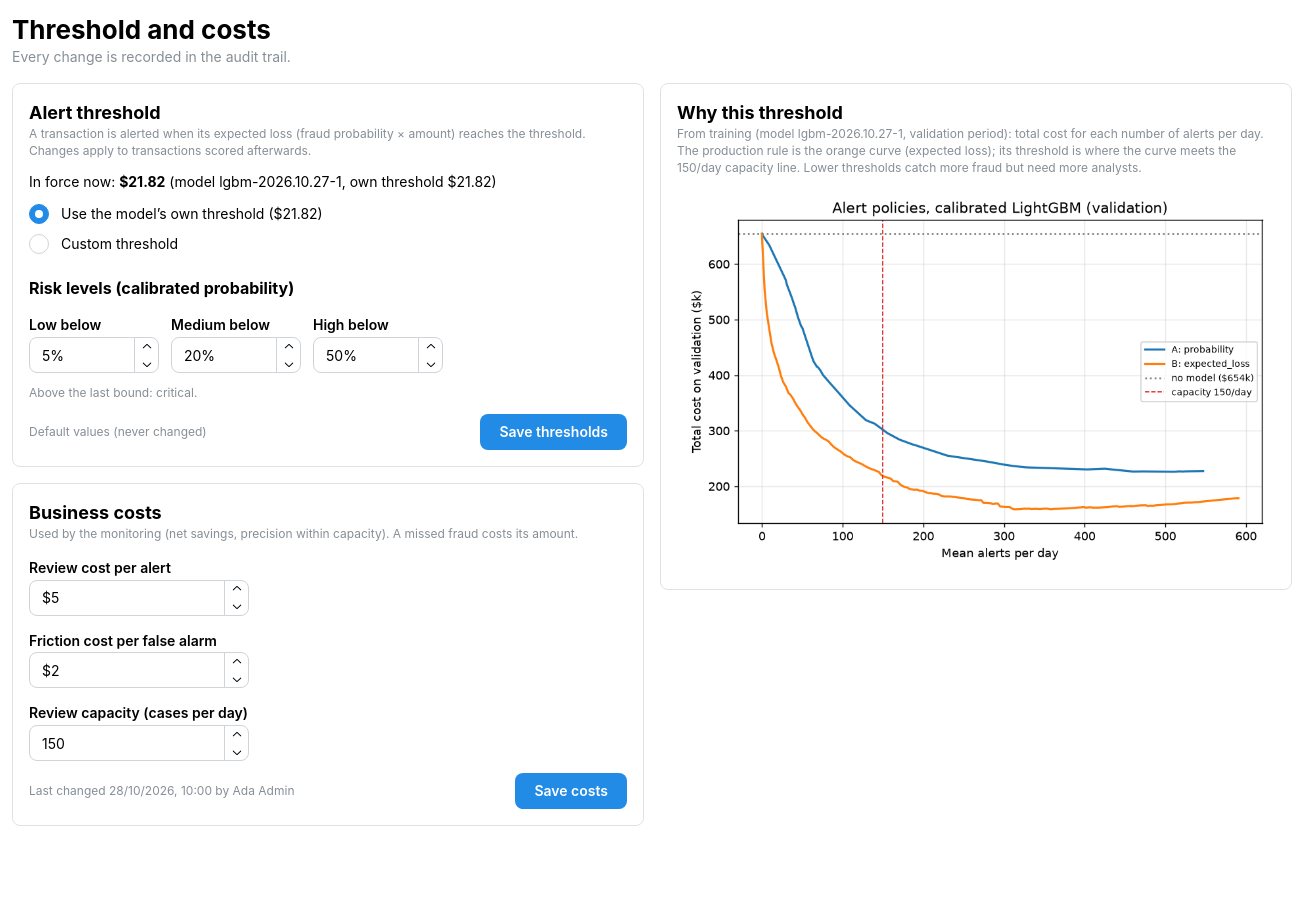
Test: SettingsPage › saves a custom threshold with the bands as fractions
Click the radio button labelled "Custom threshold" at point(39, 244), box [29, 234, 49, 254]
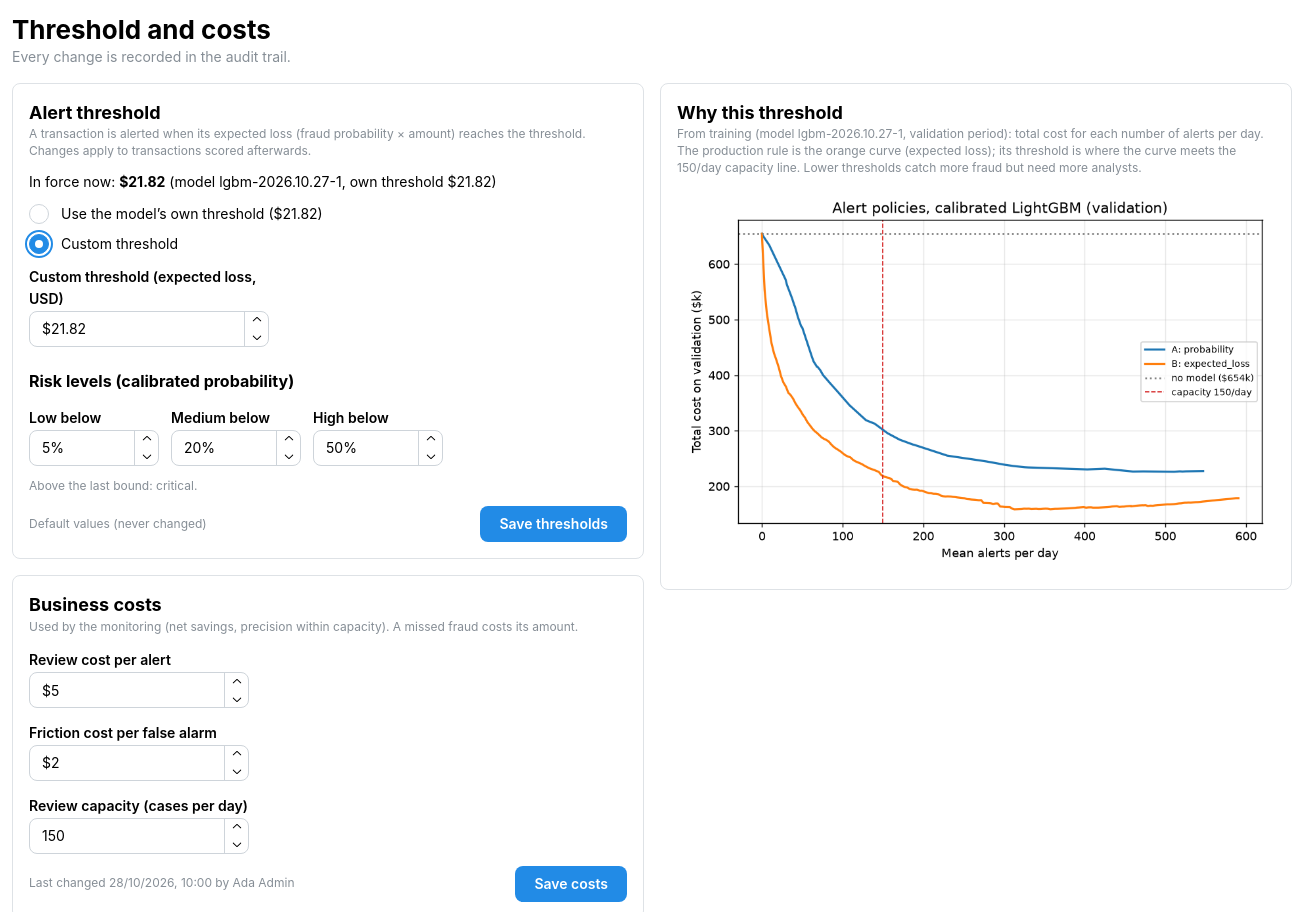
Replace the text in the field labelled "Custom threshold (expected loss, USD)" with "30" at point(149, 329), box [29, 311, 269, 347]
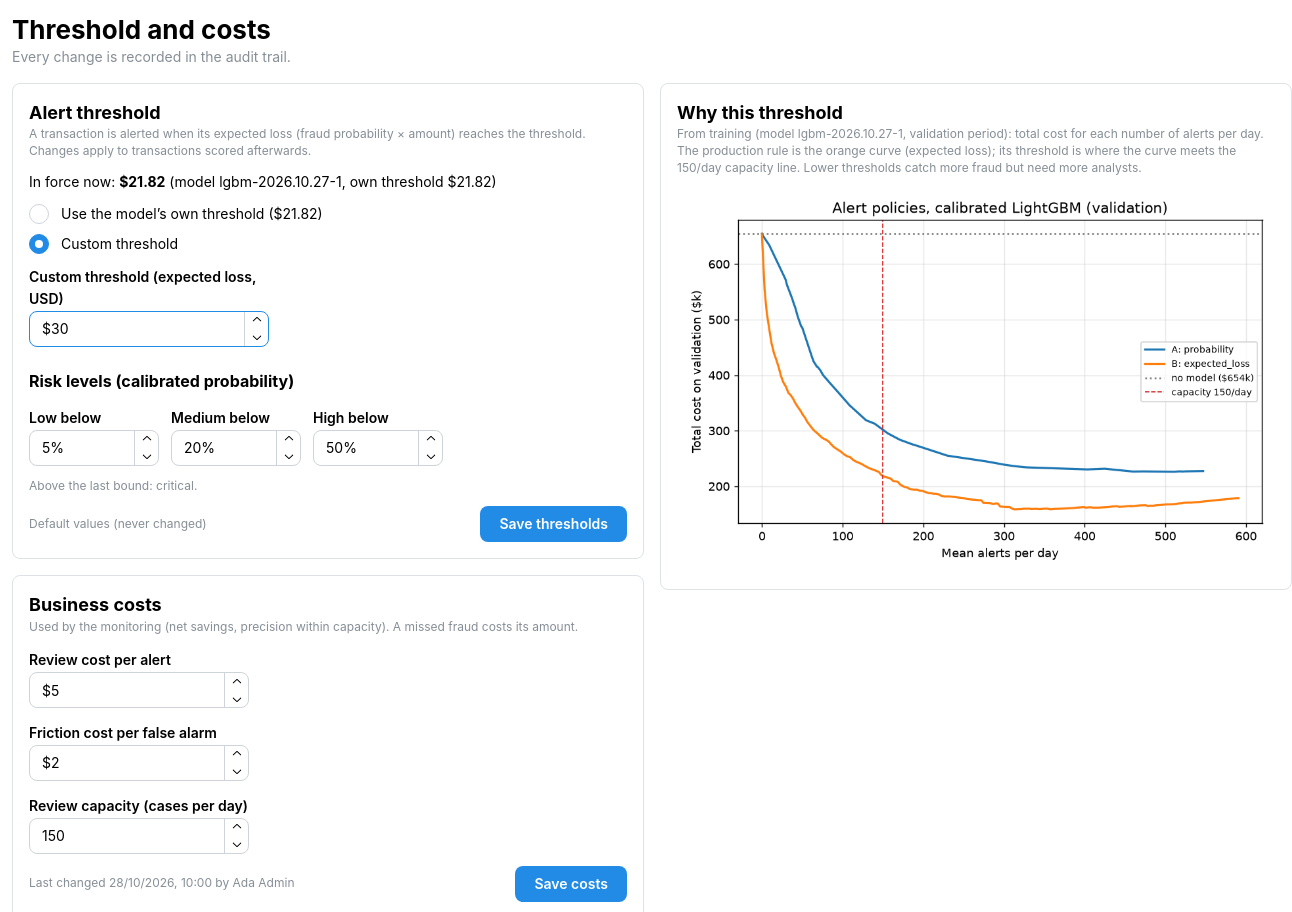
Click the button "Save thresholds" at point(554, 524), box [480, 506, 627, 542]
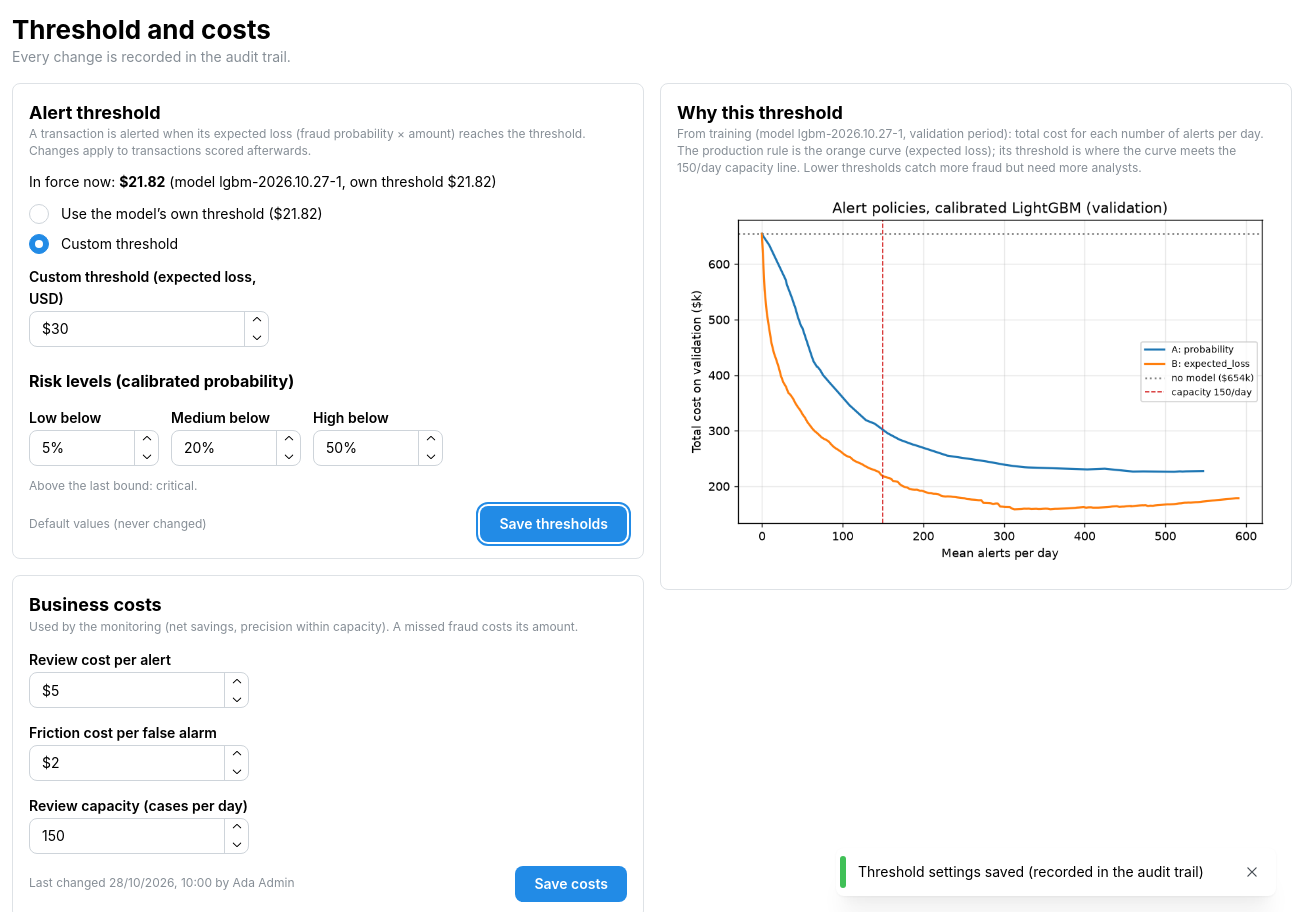
Now the text "Threshold settings saved (recorded in the audit trail)" is shown, box [858, 862, 1228, 882]
